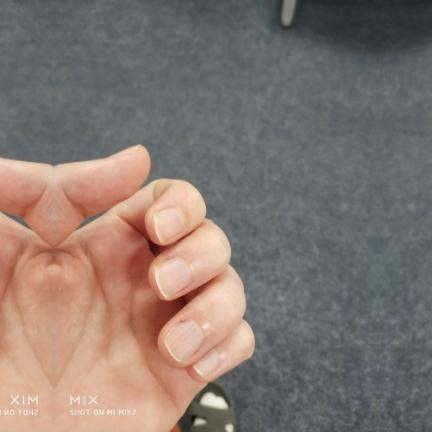Nail: (164, 320, 203, 362), (154, 258, 190, 299), (154, 207, 186, 243), (193, 350, 218, 377), (110, 145, 141, 158)
